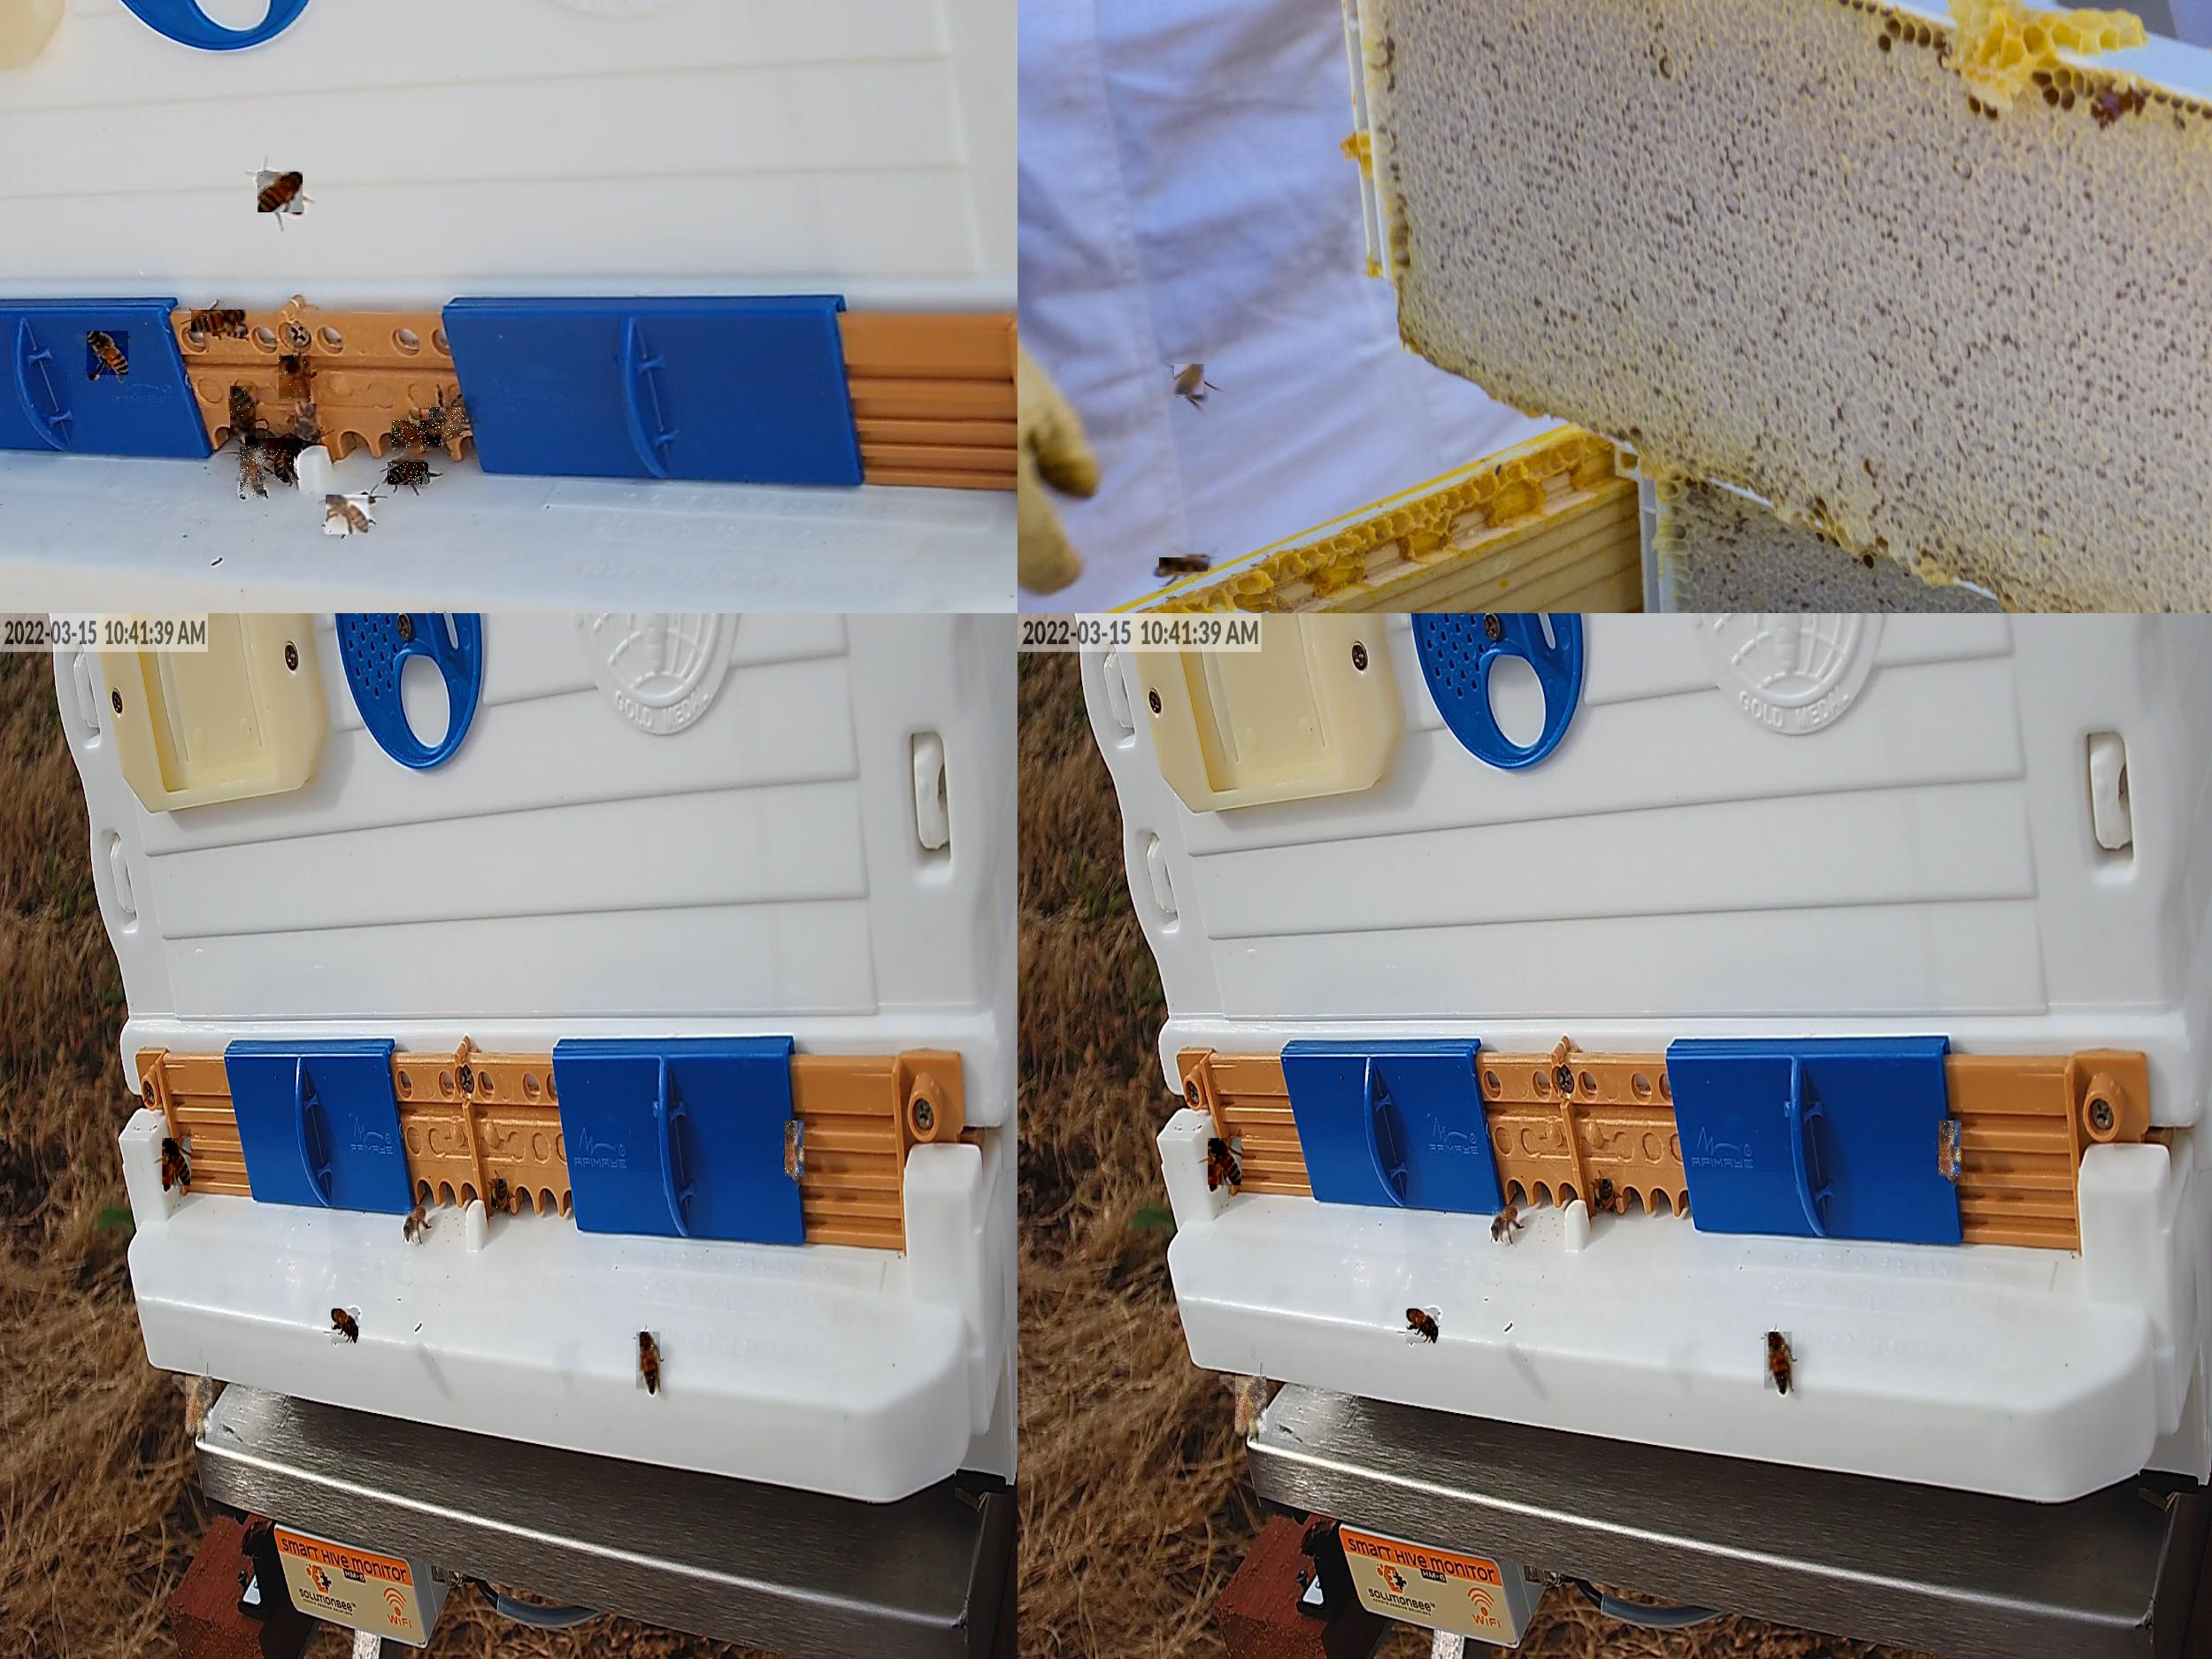bee: (87, 332, 129, 379), (257, 172, 303, 213), (326, 495, 373, 535), (1208, 1139, 1242, 1189), (1764, 1333, 1793, 1393), (279, 357, 311, 402), (636, 1333, 660, 1393), (191, 311, 247, 336), (163, 1139, 191, 1189), (230, 387, 257, 440), (241, 448, 267, 500), (1407, 1309, 1441, 1344), (430, 407, 466, 438), (1174, 365, 1205, 399), (332, 1309, 361, 1344), (388, 462, 429, 486), (1492, 1206, 1518, 1240), (296, 404, 321, 439), (245, 439, 303, 453), (275, 449, 298, 483), (403, 1206, 426, 1240), (1159, 557, 1209, 572)
pollenbee: (1235, 1377, 1267, 1436), (186, 1377, 212, 1436), (392, 421, 442, 451), (1939, 1122, 1963, 1179), (786, 1122, 805, 1179), (1594, 1179, 1616, 1217), (491, 1179, 510, 1217)
